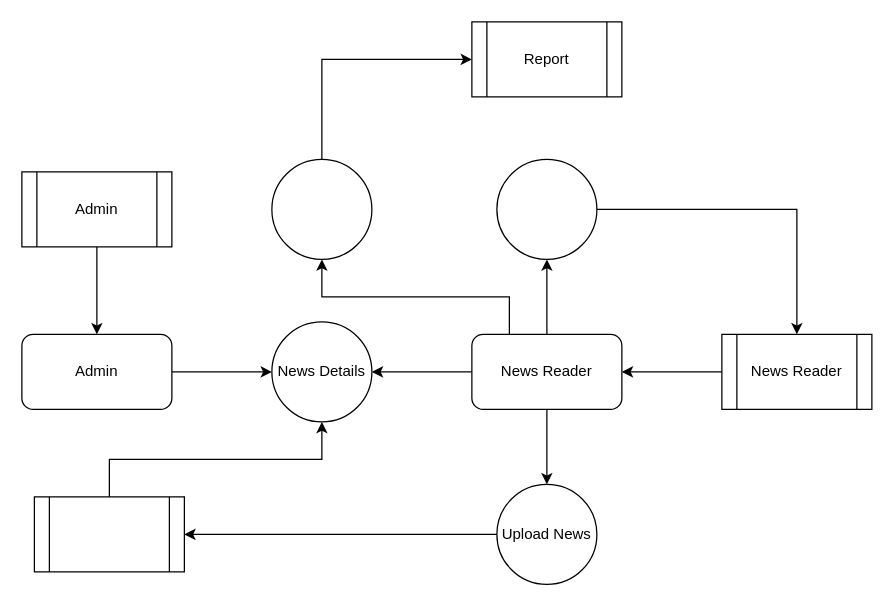
Image size: 894x606. Some labels were removed from this diagram. Each missing label, with the centre of its shape:
News: point (108, 534)
News Reader Registration: point (546, 208)
Report News: point (321, 208)
